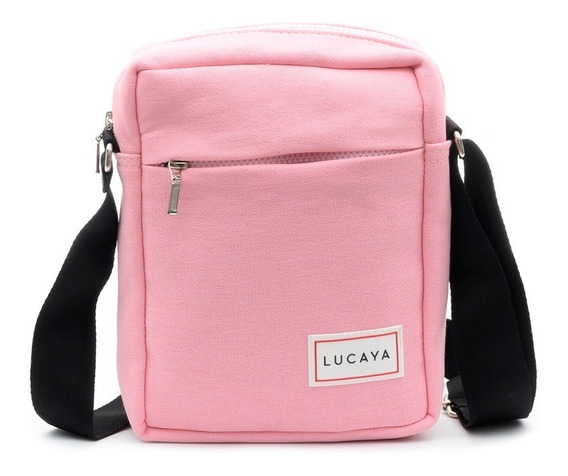cartera: (99, 17, 451, 441)
